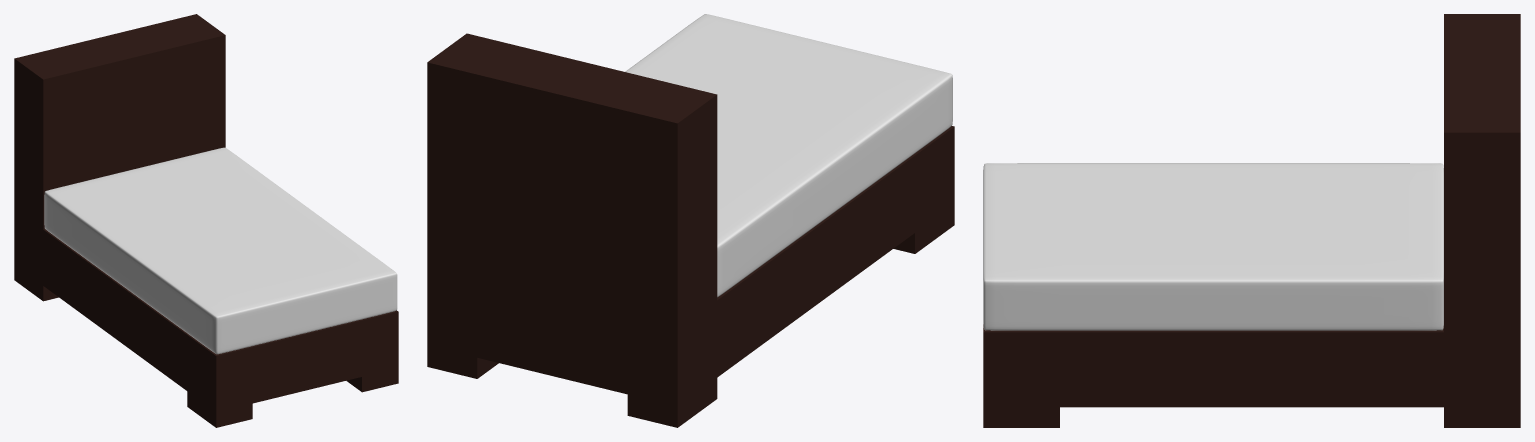
File: bed.fbx
The picture shows the model from 3 angles, left to right: view 1: azimuth 30°, elevation 25°; view 2: azimuth 150°, elevation 25°; view 3: azimuth 270°, elevation 25°; orthographic projection. The views are drawn at different scales.
Visible parts, largest first — view 1: bed, Mattress; view 2: bed, Mattress; view 3: Mattress, bed.
Boxes of the visible parts, bbox=[...] form: bed: bbox=[14, 14, 398, 427]; Mattress: bbox=[44, 147, 397, 354]; bed: bbox=[427, 33, 954, 427]; Mattress: bbox=[625, 14, 952, 297]; Mattress: bbox=[983, 163, 1443, 330]; bed: bbox=[983, 14, 1520, 427].
Size of the model in its own units: 1.2 by 1.39 by 2.3.
